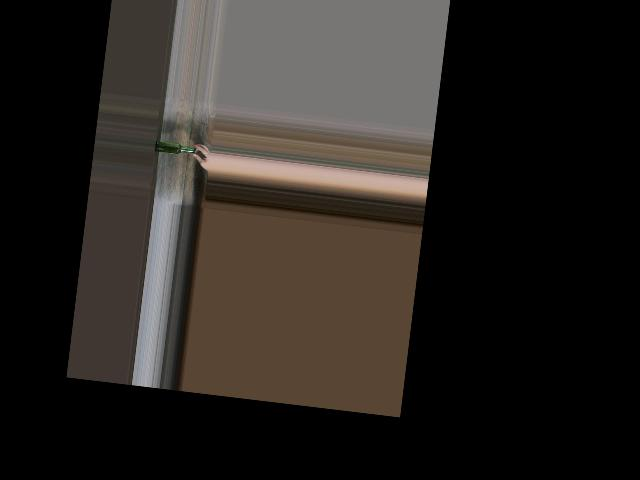beer: (154, 140, 196, 156)
